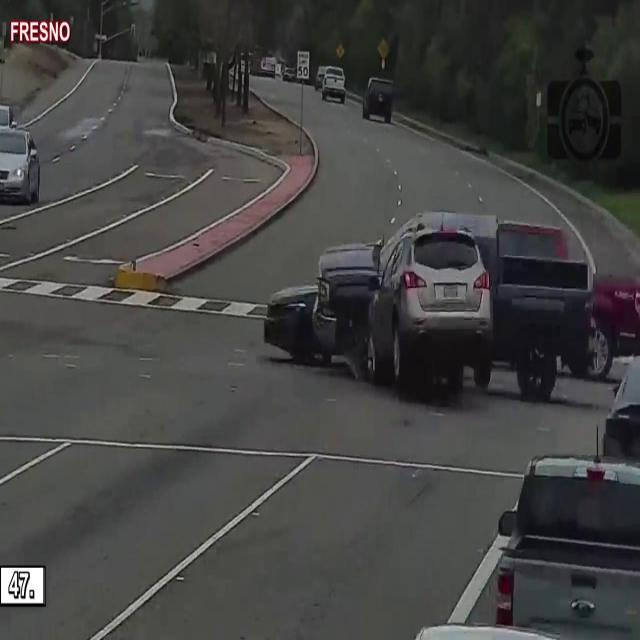accident: (254, 195, 610, 433)
